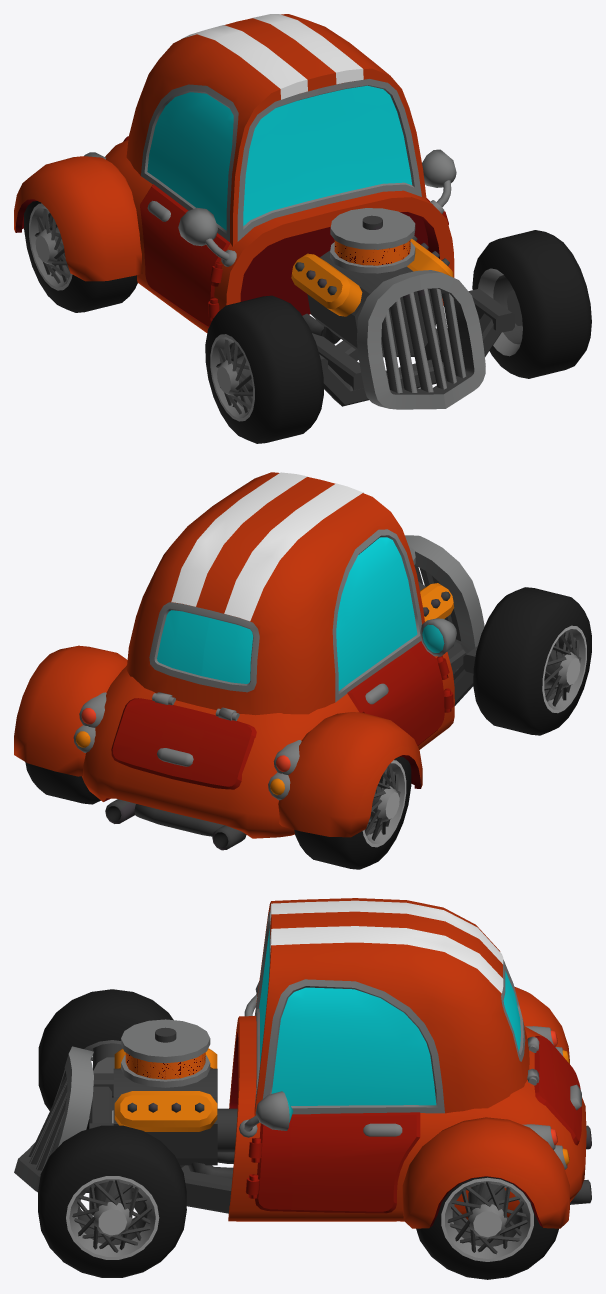
The model's file is VEH1-A.fbx.
3 renders of one model, top to bottom at view 1: azimuth 30°, elevation 25°; view 2: azimuth 150°, elevation 25°; view 3: azimuth 270°, elevation 25°, orthographic. The views are drawn at different scales.
Visible parts, largest first — view 1: VEH1_A, V1A_Wheel_FR, V1A_Wheel_FL, V1A_Wheel_BR; view 2: VEH1_A, V1A_Wheel_FR, V1A_Wheel_BR, V1A_Wheel_BL; view 3: VEH1_A, V1A_Wheel_FL, V1A_Wheel_BL, V1A_Wheel_FR.
Part boxes in pixels (x1=…): VEH1_A: x1=14, y1=14, x2=514, y2=409; V1A_Wheel_FR: x1=205, y1=295, x2=323, y2=443; V1A_Wheel_FL: x1=472, y1=230, x2=591, y2=378; V1A_Wheel_BR: x1=24, y1=201, x2=137, y2=312; VEH1_A: x1=14, y1=472, x2=484, y2=850; V1A_Wheel_FR: x1=473, y1=587, x2=591, y2=735; V1A_Wheel_BR: x1=294, y1=756, x2=411, y2=869; V1A_Wheel_BL: x1=25, y1=762, x2=100, y2=804; VEH1_A: x1=14, y1=898, x2=591, y2=1228; V1A_Wheel_FL: x1=38, y1=1125, x2=186, y2=1277; V1A_Wheel_BL: x1=416, y1=1176, x2=558, y2=1279; V1A_Wheel_FR: x1=38, y1=989, x2=173, y2=1129.
Size of the model in its own units: 256 by 190 by 349.
1 material, 1 textured.
